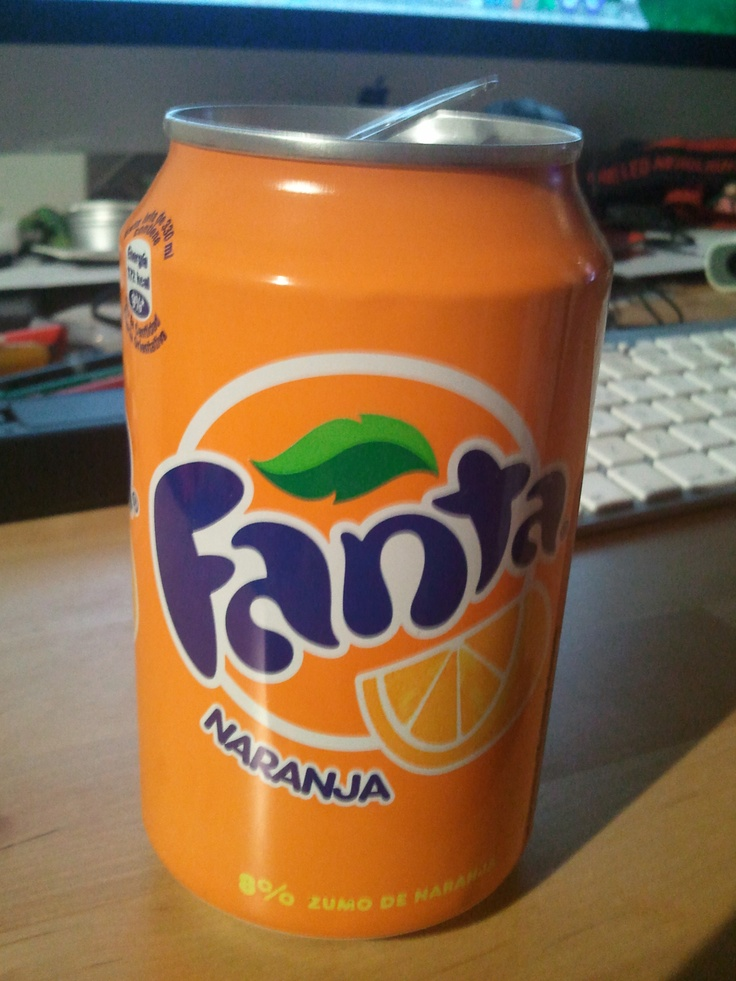fanta: (125, 115, 558, 936)
